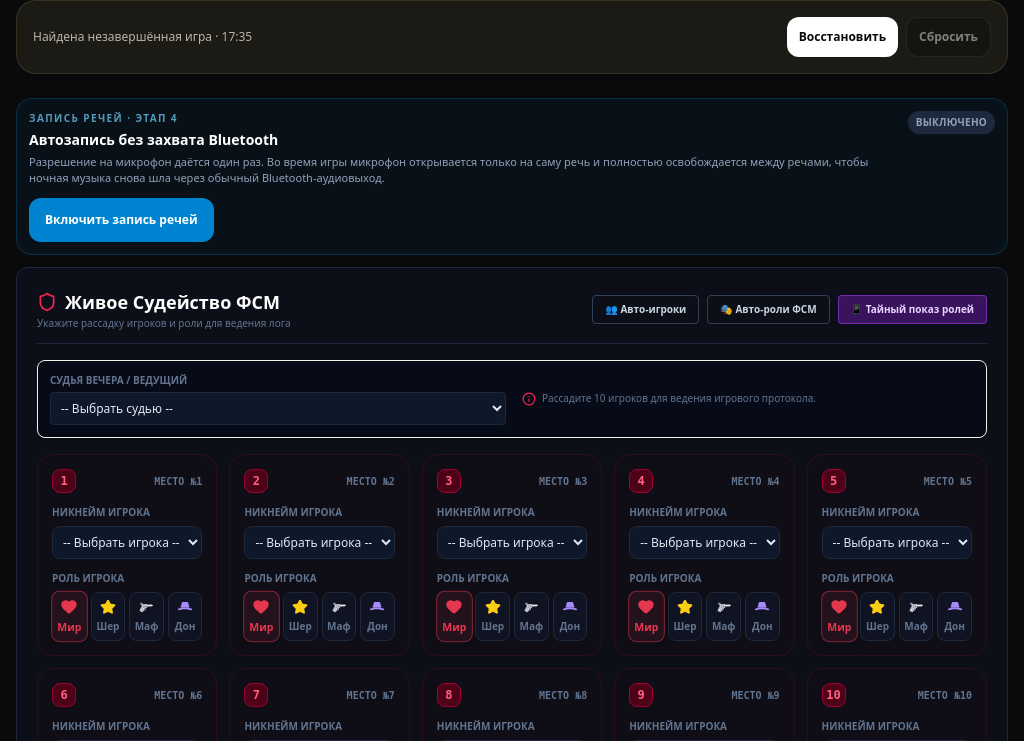
Test: live game emergency recovery › restores the farewell snapshot when undoing a recovered death protocol
This screenshot has width=1024, height=741.
Click the button "Восстановить" at (842, 37), box [787,17,898,57]
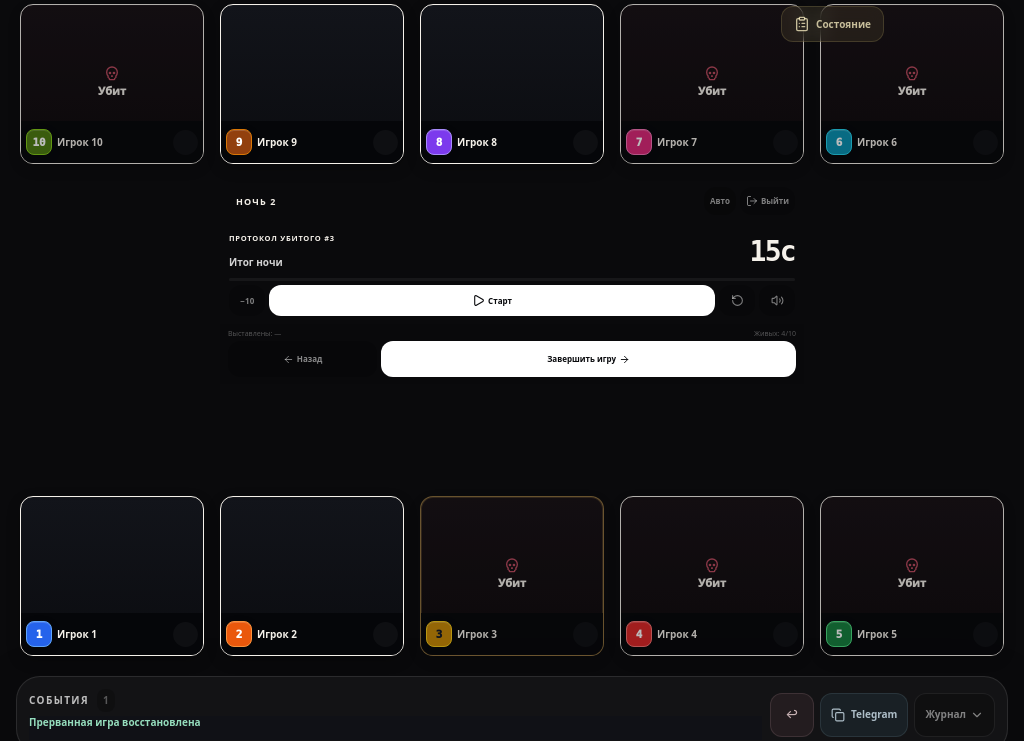
Click the button "Назад" at (303, 359), box [228,341,377,377]
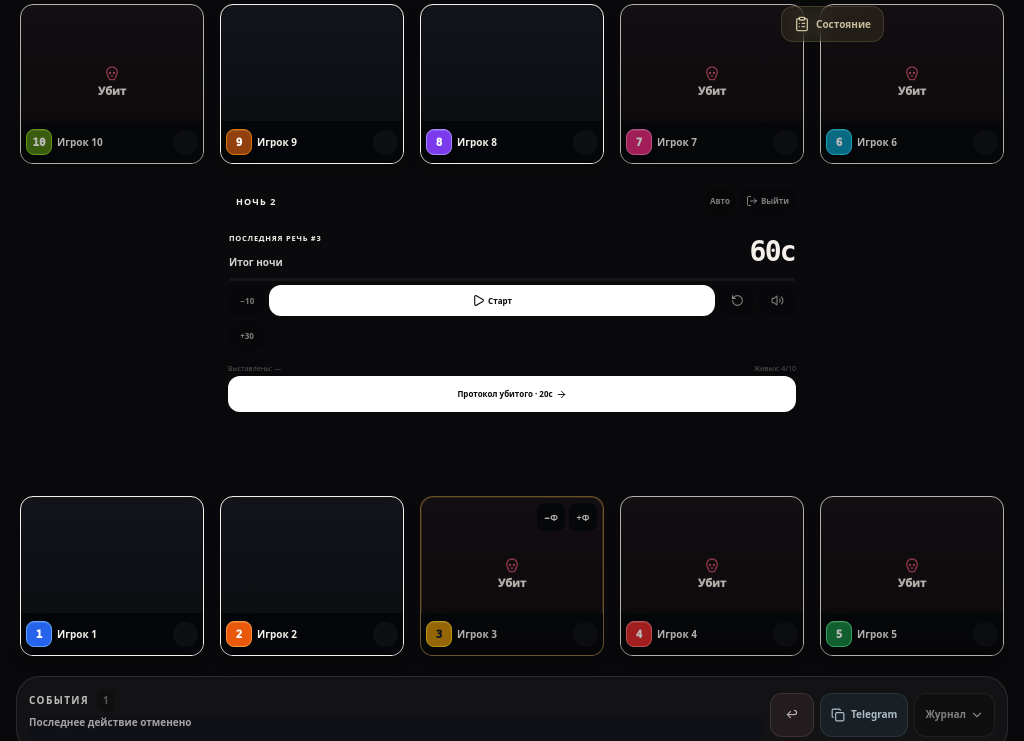
Expected: the text "Последняя речь #3" is shown, [229,233,322,243]
Expected: the text "60с" is shown, [750,234,795,268]
Expected: the button "Завершить игру" is gone
